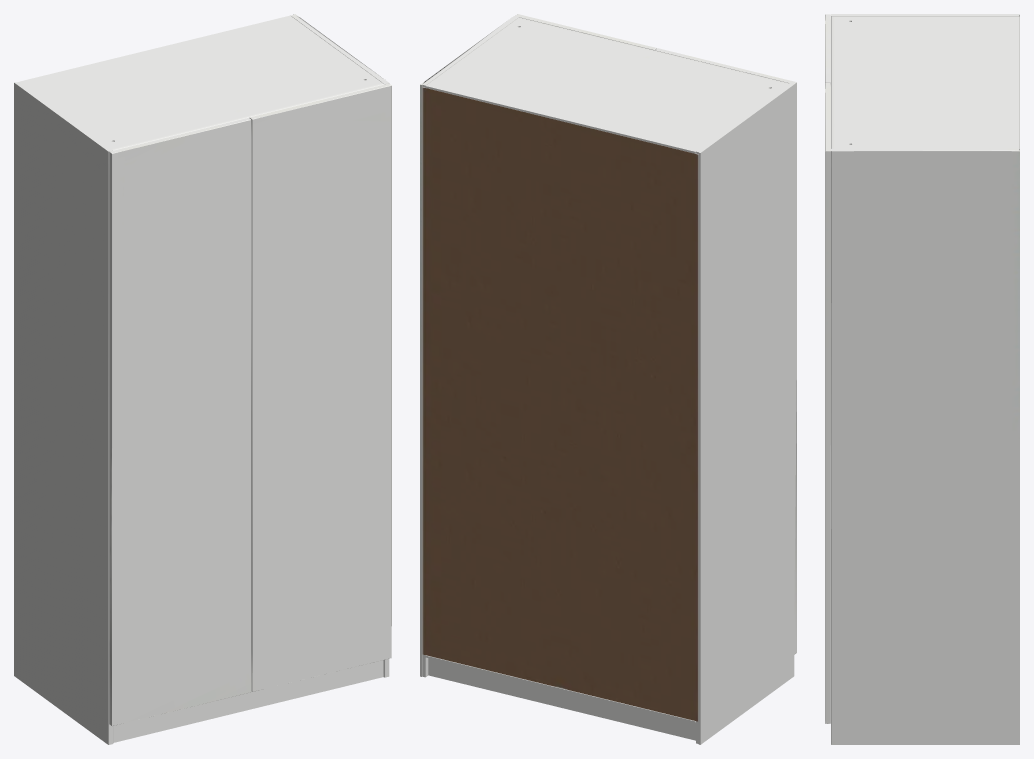
3 views of the same model, side by side, from view 1: azimuth 30°, elevation 25°; view 2: azimuth 150°, elevation 25°; view 3: azimuth 270°, elevation 25° (orthographic).
Visible parts, largest first — view 1: 29500653_wardrobe:1.001; view 2: 29500653_wardrobe:1.001; view 3: 29500653_wardrobe:1.001.
Boxes of the visible parts, x1=… form: 29500653_wardrobe:1.001: x1=14, y1=14, x2=391, y2=744; 29500653_wardrobe:1.001: x1=420, y1=14, x2=796, y2=744; 29500653_wardrobe:1.001: x1=825, y1=14, x2=1019, y2=744.
Size of the model in its own units: 0.9975 by 2.01 by 0.598.
1 material, 1 textured.
